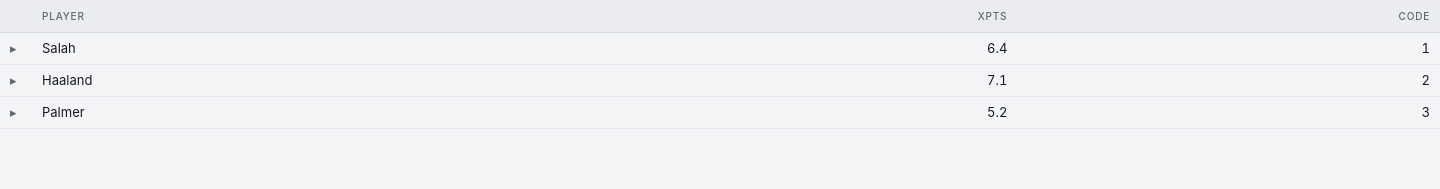
it: DataTable › expands a row into the expand renderer on click
What coordinates should you click on to do the following:
click the button named "expand Salah"
I would click on:
 (13, 48)
Its box is [10,39,16,57].
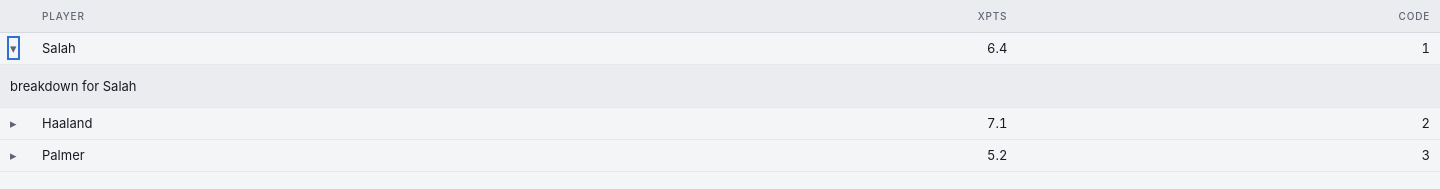
Check: the text "breakdown for Salah" is shown, box [10,78,136,94]
